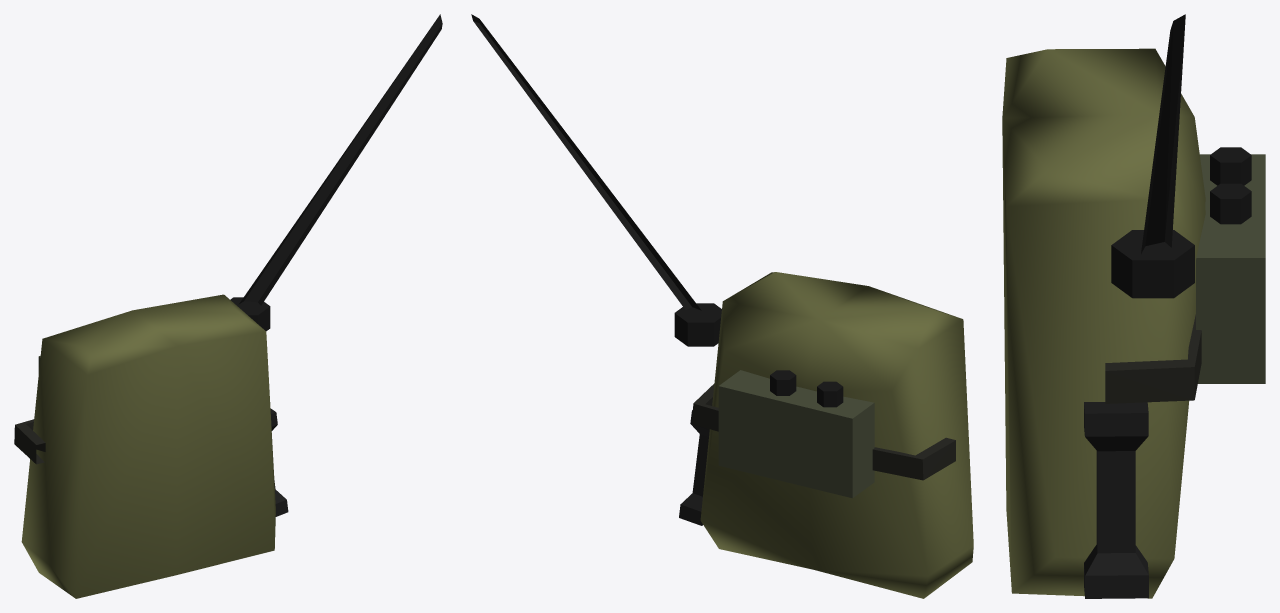
Rendered from CE_RadioPack.glb.
3 renders of one model, left to right at view 1: azimuth 30°, elevation 25°; view 2: azimuth 150°, elevation 25°; view 3: azimuth 270°, elevation 25°, orthographic. The views are drawn at different scales.
Parts seen in each view (by area): view 1: CE_RadioPack; view 2: CE_RadioPack; view 3: CE_RadioPack.
Boxes of the visible parts, x1,y1,x2,y2 form: CE_RadioPack: [14, 14, 442, 598]; CE_RadioPack: [471, 14, 973, 598]; CE_RadioPack: [1002, 14, 1265, 598].
Bounding box in the file's own units: 9.13 × 9.29 × 2.85.
Materials: 1 (1 with a texture image).
